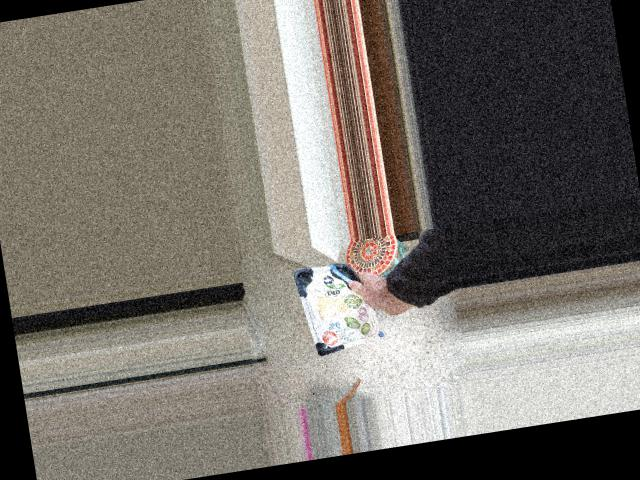cheese: (318, 272, 397, 352)
